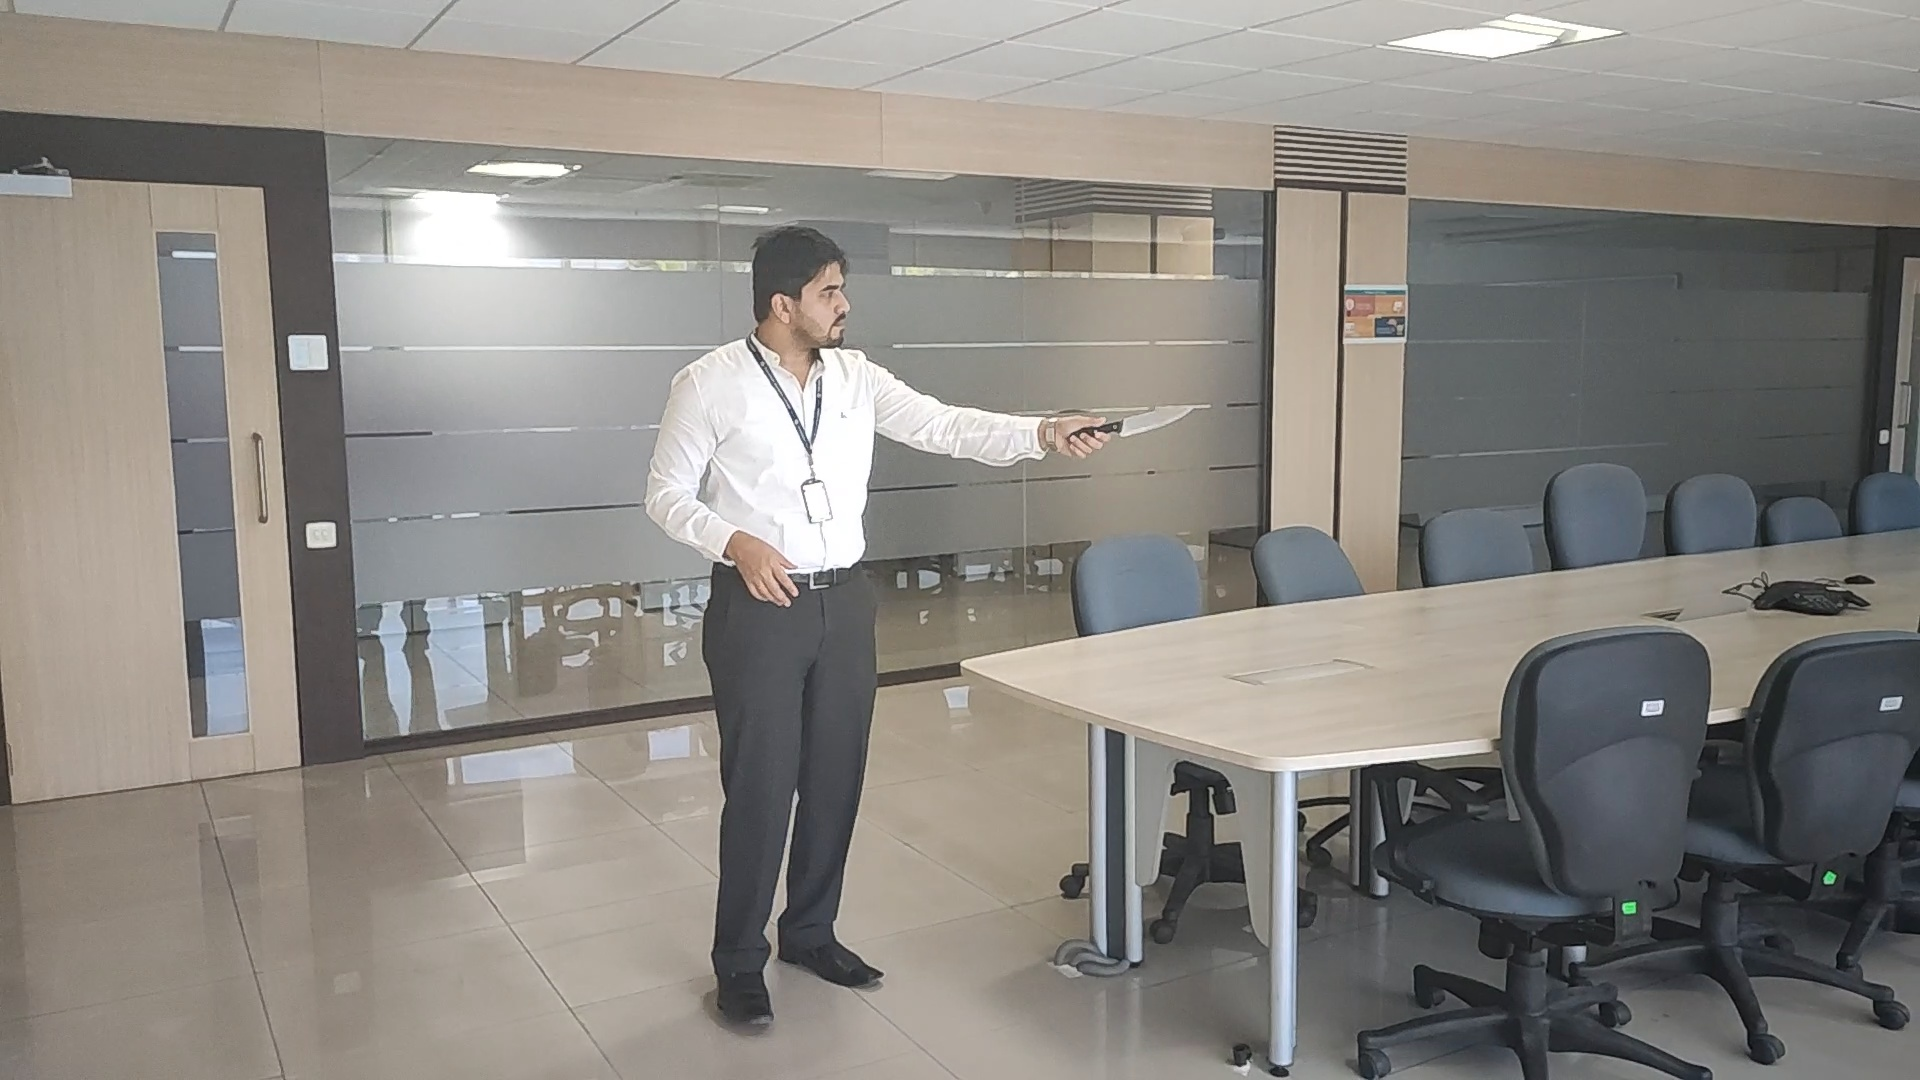knife: (1112, 406, 1196, 439)
